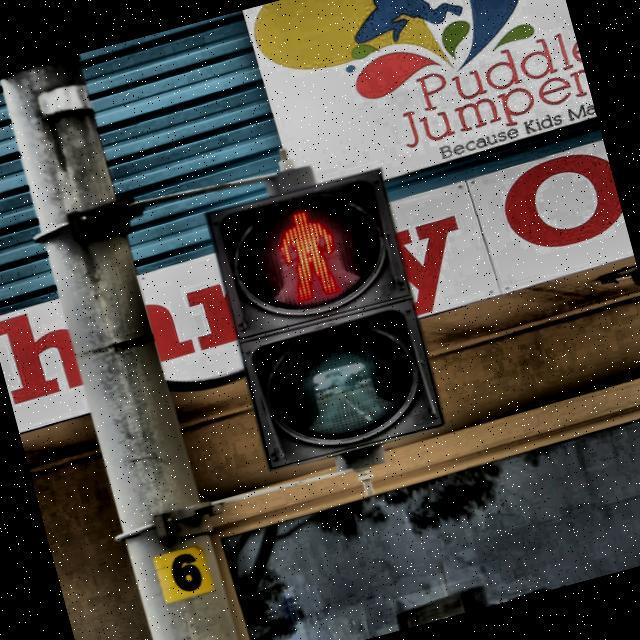red_light: (262, 199, 354, 311)
